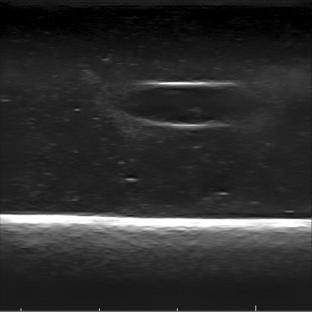vessel: (121, 81, 248, 133)
